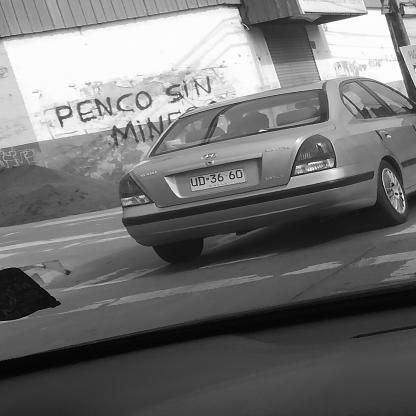Patente: (186, 166, 249, 193)
